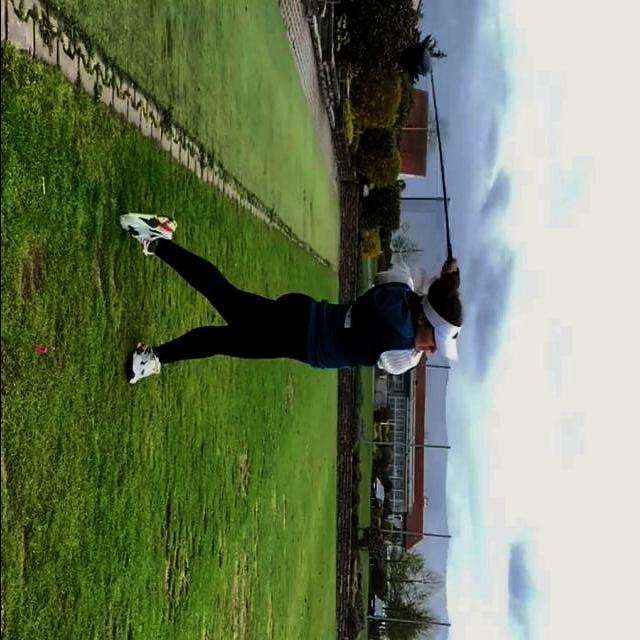golf club-handle: (396, 42, 455, 266)
golf club-head: (399, 47, 433, 74)
